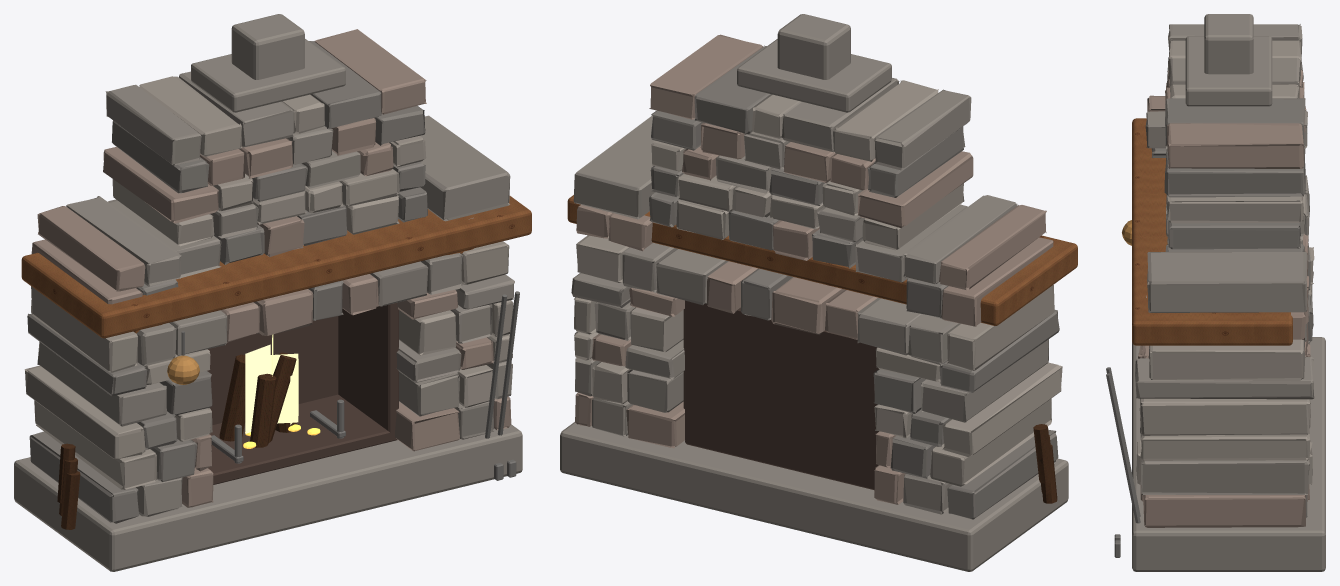
File: cabin_hearth.glb
3 renders of one model, left to right at view 1: azimuth 30°, elevation 25°; view 2: azimuth 150°, elevation 25°; view 3: azimuth 270°, elevation 25°, orthographic. The views are drawn at different scales.
Visible parts, largest first — view 1: plinth, mantel, fire_floor, fire_side_R, cheekR_1_0, fire_back, chimney_cap, cheekL_1_0, jambL_2_0, breast_4_0, breast_4_5, chimney_pot (+70 smaller); view 2: fire_back, plinth, mantel, chimney_cap, cheekR_1_0, cheekL_1_0, jambL_2_0, breast_4_0, breast_4_5, chimney_pot, cheekL_1_1, breast_2_0 (+65 smaller); view 3: plinth, mantel, cheekR_1_0, jambR_3_2, breast_4_5, jambR_1_2, lintel_0_9, jambR_0_2, chimney_cap, jambR_2_2, breast_3_5, jambR_4_1 (+15 smaller).
Part boxes in pixels (x1=…): plinth: x1=14, y1=424, x2=522, y2=571; mantel: x1=21, y1=196, x2=531, y2=338; fire_floor: x1=208, y1=394, x2=392, y2=484; fire_side_R: x1=338, y1=303, x2=398, y2=441; cheekR_1_0: x1=420, y1=115, x2=510, y2=221; fire_back: x1=207, y1=316, x2=338, y2=424; chimney_cap: x1=191, y1=39, x2=345, y2=112; cheekL_1_0: x1=37, y1=206, x2=145, y2=291; jambL_2_0: x1=24, y1=365, x2=145, y2=459; breast_4_0: x1=105, y1=84, x2=201, y2=165; breast_4_5: x1=314, y1=29, x2=426, y2=114; chimney_pot: x1=231, y1=14, x2=304, y2=79; fire_back: x1=685, y1=300, x2=878, y2=490; plinth: x1=560, y1=422, x2=1068, y2=571; mantel: x1=567, y1=195, x2=1077, y2=325; chimney_cap: x1=737, y1=39, x2=891, y2=112; cheekR_1_0: x1=573, y1=115, x2=655, y2=219; cheekL_1_0: x1=939, y1=205, x2=1046, y2=290; jambL_2_0: x1=942, y1=362, x2=1062, y2=456; breast_4_0: x1=873, y1=89, x2=971, y2=170; breast_4_5: x1=649, y1=34, x2=763, y2=119; chimney_pot: x1=777, y1=14, x2=850, y2=79; cheekL_1_1: x1=903, y1=195, x2=1017, y2=284; breast_2_0: x1=858, y1=151, x2=973, y2=228; plinth: x1=1132, y1=337, x2=1325, y2=571; mantel: x1=1132, y1=118, x2=1292, y2=345; cheekR_1_0: x1=1147, y1=251, x2=1307, y2=312; jambR_3_2: x1=1140, y1=398, x2=1310, y2=435; breast_4_5: x1=1166, y1=123, x2=1304, y2=168; jambR_1_2: x1=1141, y1=460, x2=1309, y2=494; lintel_0_9: x1=1149, y1=339, x2=1304, y2=381; jambR_0_2: x1=1143, y1=495, x2=1305, y2=527; chimney_cap: x1=1185, y1=36, x2=1272, y2=106; jambR_2_2: x1=1140, y1=432, x2=1310, y2=460; breast_3_5: x1=1164, y1=152, x2=1305, y2=197; jambR_4_1: x1=1135, y1=357, x2=1314, y2=399.
Size of the model in its own units: 2.41 by 2.41 by 1.07.
Materials: 12 (2 with a texture image).
